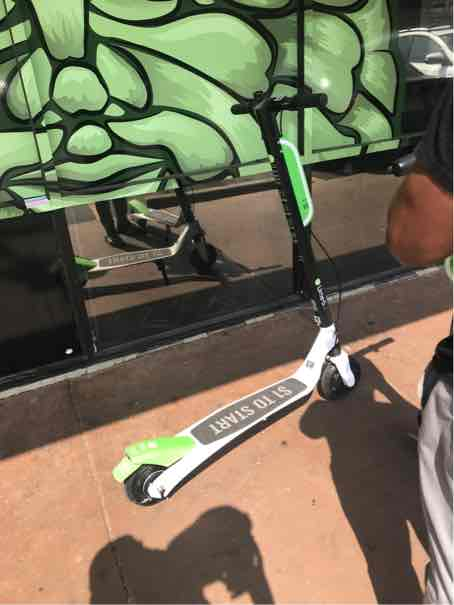scooter: (105, 90, 359, 511)
